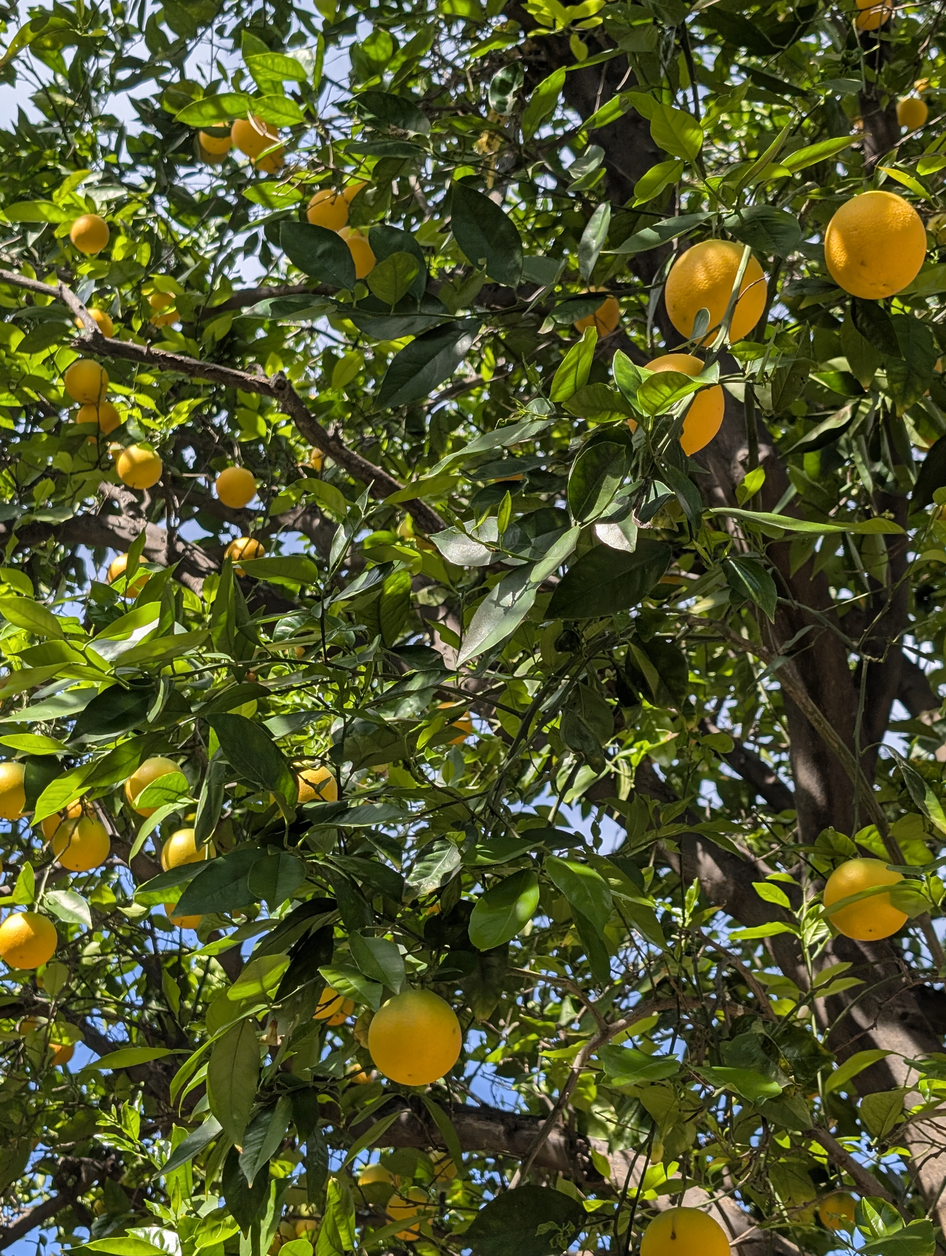orange: (825, 191, 926, 299), (368, 990, 462, 1086), (665, 239, 743, 338), (640, 1207, 730, 1256), (823, 858, 903, 907), (830, 894, 907, 940), (0, 912, 57, 969), (52, 815, 110, 871), (125, 756, 177, 816), (730, 253, 766, 339), (680, 385, 724, 455), (386, 1187, 432, 1242), (161, 828, 215, 871), (64, 359, 108, 405), (231, 115, 276, 159), (117, 445, 162, 489), (574, 295, 620, 338), (338, 227, 376, 279), (307, 188, 348, 231), (215, 466, 256, 508), (75, 400, 123, 434), (70, 214, 109, 255), (297, 766, 338, 804), (41, 801, 82, 839), (225, 537, 264, 576), (818, 1192, 855, 1232), (0, 762, 25, 820), (648, 354, 702, 376), (856, 0, 894, 31), (897, 96, 928, 129), (148, 291, 177, 326), (123, 564, 151, 599), (164, 904, 201, 929), (358, 1163, 395, 1188), (353, 1008, 374, 1049), (198, 131, 232, 155), (430, 1152, 457, 1182), (450, 712, 473, 745), (314, 988, 340, 1017), (88, 308, 113, 338), (327, 999, 354, 1025), (255, 149, 284, 173), (107, 553, 128, 584), (347, 1062, 376, 1084), (267, 1226, 288, 1256), (107, 554, 127, 583), (342, 182, 367, 204), (51, 1043, 74, 1065), (295, 1218, 317, 1237), (18, 1017, 39, 1035), (309, 447, 323, 471), (278, 1221, 296, 1239), (439, 702, 450, 709)
